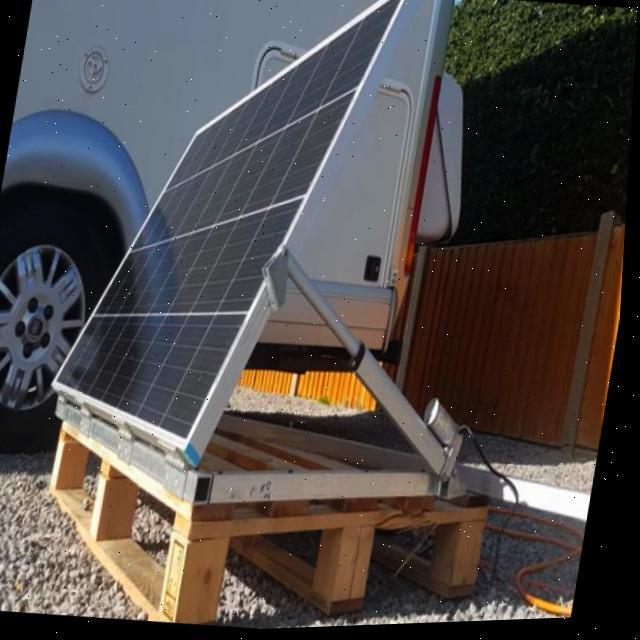Normal Solar Panel: (45, 0, 412, 472)
